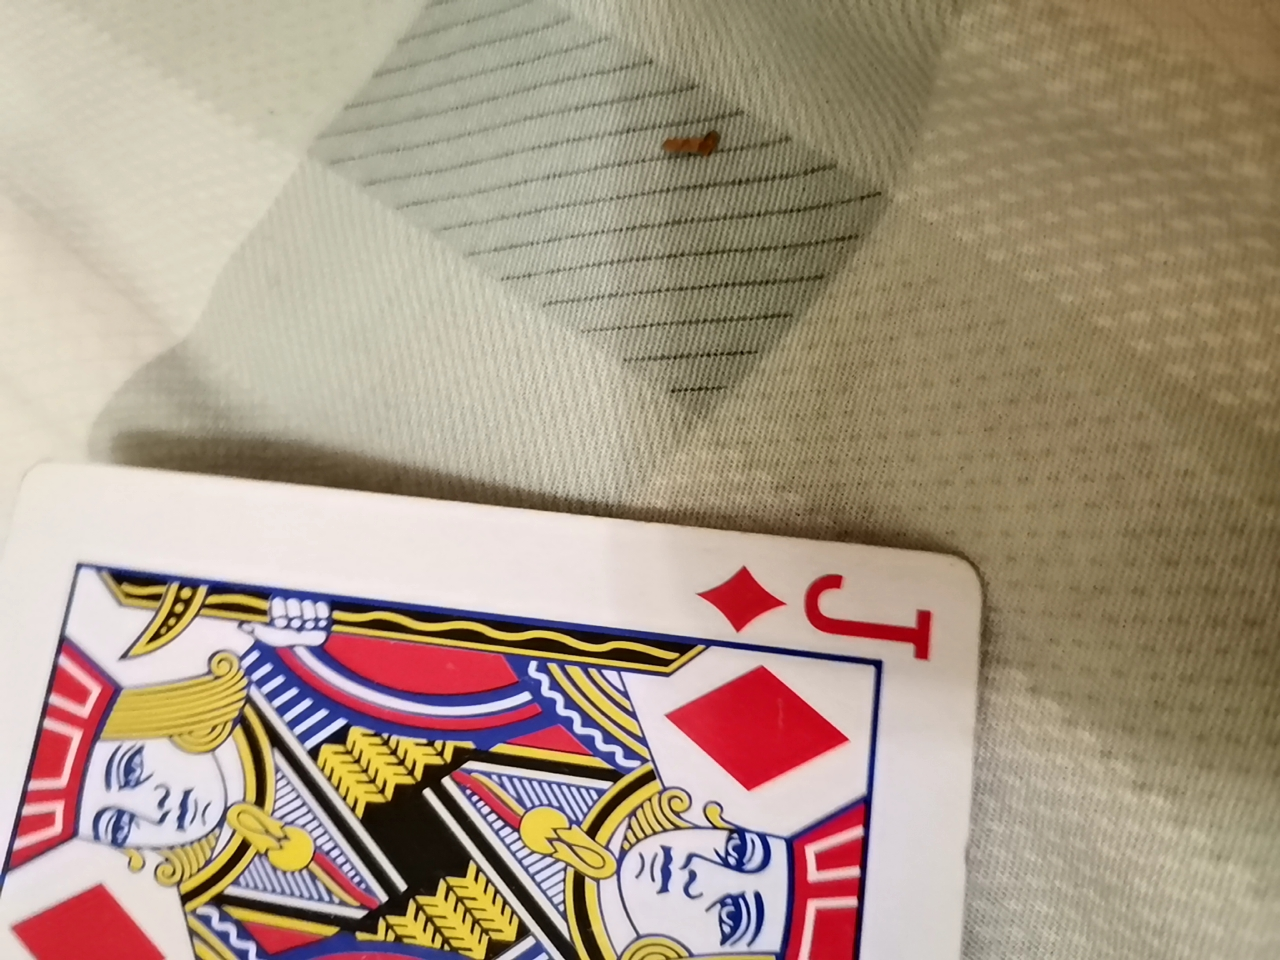fk j: (3, 453, 989, 953)
